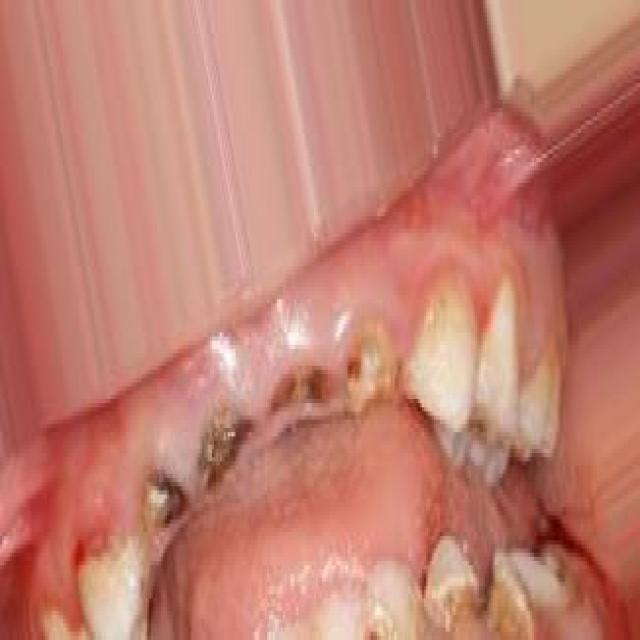caries: (196, 400, 259, 509), (341, 322, 400, 428), (422, 536, 480, 635), (267, 357, 343, 430), (485, 548, 538, 640), (141, 451, 195, 540)
